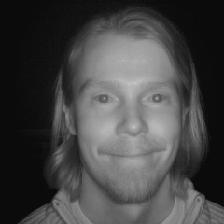happy: (42, 8, 222, 205)
